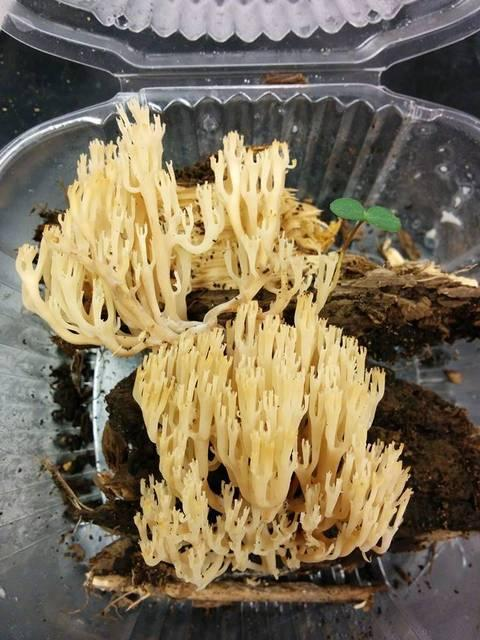Edible Mushroom: (14, 96, 346, 358), (130, 290, 413, 590)
